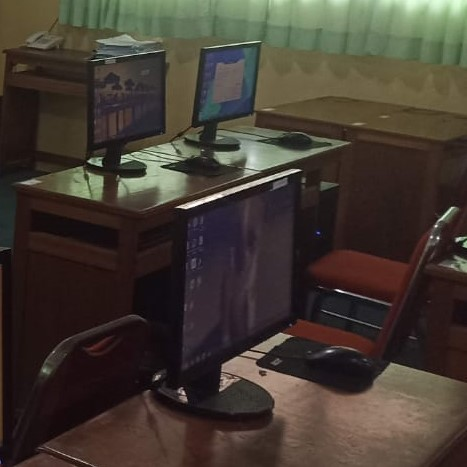monitor: (161, 169, 303, 402), (85, 45, 167, 154), (191, 41, 262, 129)
